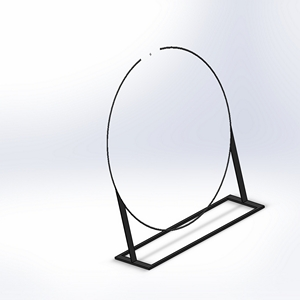circle: (105, 44, 267, 269)
